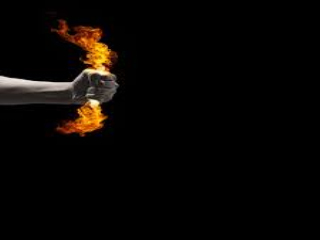fire: (58, 26, 115, 71), (61, 106, 108, 137)
